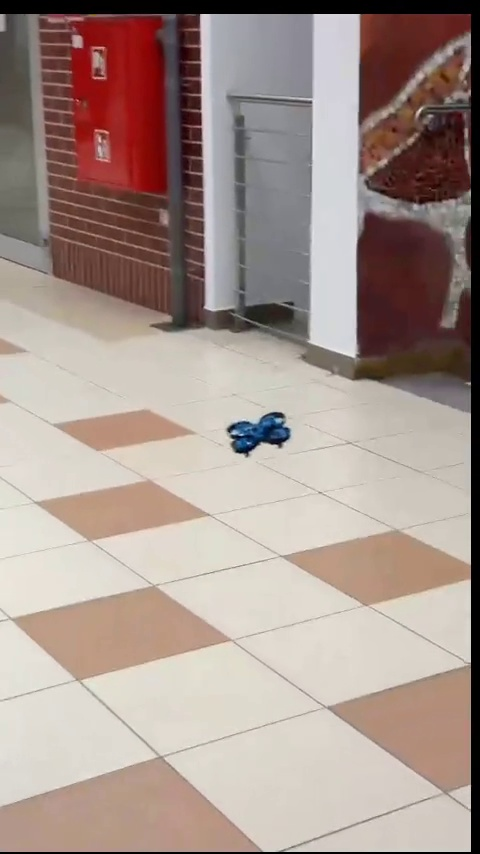drone: (231, 402, 295, 452)
